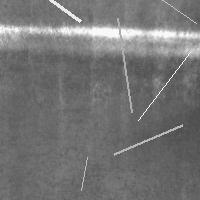scratches: (1, 22, 199, 54), (133, 47, 195, 125), (109, 120, 187, 159), (112, 13, 136, 117), (0, 0, 85, 26), (143, 0, 200, 28), (76, 152, 92, 195)
